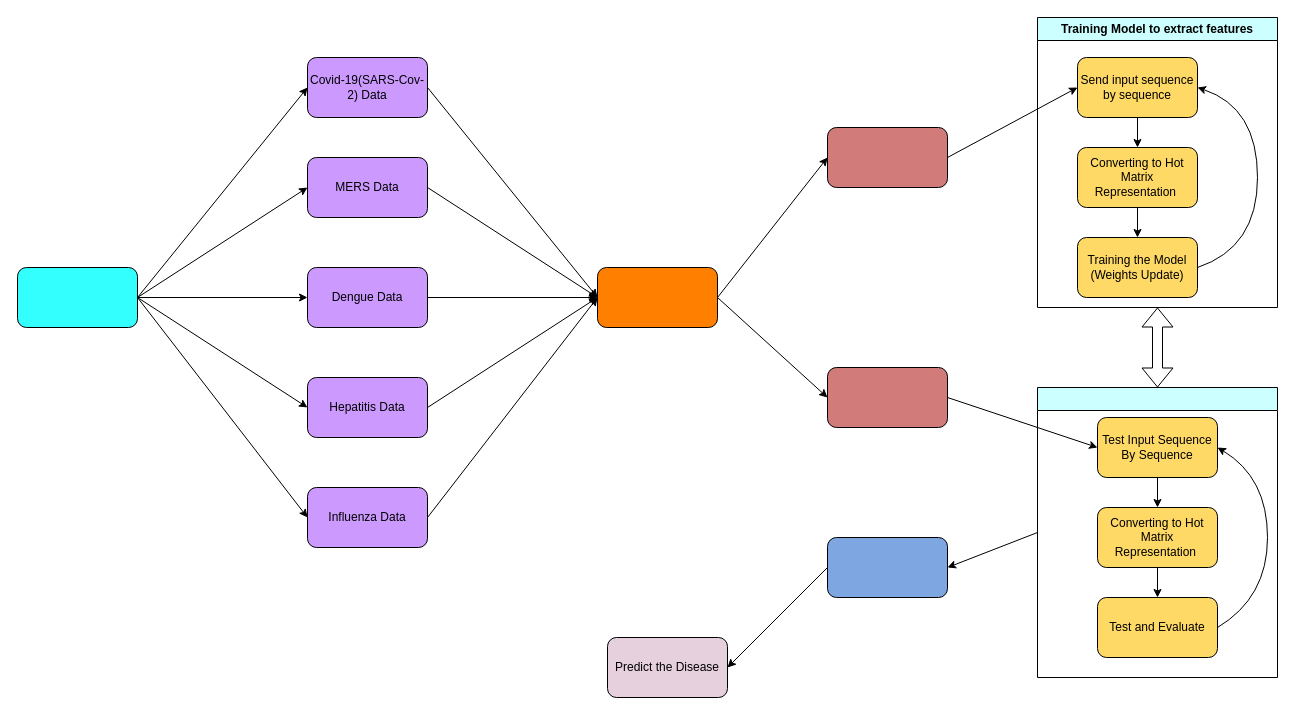
Some shapes in this 1295 by 715 pixel diagram are drawn without their labels. The box of each missing label's shape, as (x1, y1, x2, y2) in pixels:
Apply Model on Unseen Data: (826, 536, 948, 598)
DNA Sequence Data Collected From NCBI: (16, 266, 138, 328)
Evaluate Model: (1036, 386, 1278, 678)
Split The Data into Train and Test: (596, 266, 718, 328)
Test Data: (826, 366, 948, 428)
Train Data: (826, 126, 948, 188)
